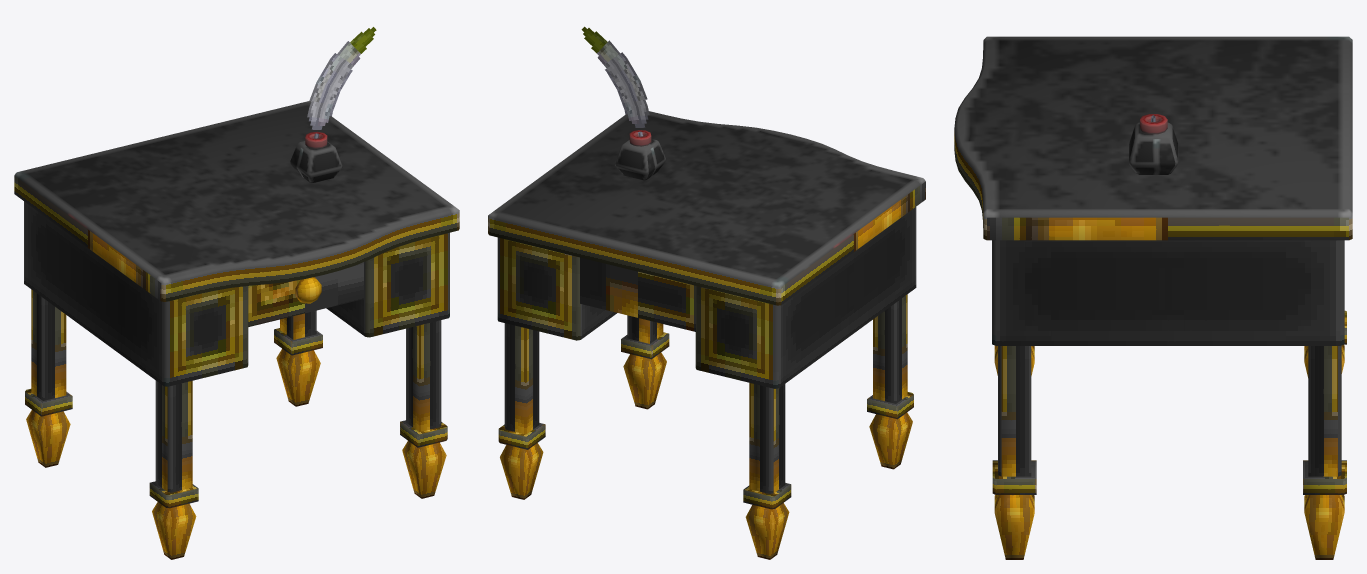
Rendered from int_gor_desk.dae.
The picture shows the model from 3 angles, left to right: view 1: azimuth 30°, elevation 25°; view 2: azimuth 150°, elevation 25°; view 3: azimuth 270°, elevation 25°; orthographic projection. The views are drawn at different scales.
Visible parts, largest first — view 1: vsn_mesh_2_, vsn_mesh_1_, vsn_mesh_3_, vsn_mesh_0_; view 2: vsn_mesh_2_, vsn_mesh_1_, vsn_mesh_3_, vsn_mesh_0_; view 3: vsn_mesh_1_, vsn_mesh_2_, vsn_mesh_0_.
Boxes of the visible parts, <box> form: vsn_mesh_2_: <box>14,176,459,559</box>; vsn_mesh_1_: <box>14,101,459,283</box>; vsn_mesh_3_: <box>307,27,376,138</box>; vsn_mesh_0_: <box>290,141,342,182</box>; vsn_mesh_2_: <box>488,181,925,559</box>; vsn_mesh_1_: <box>488,111,925,287</box>; vsn_mesh_3_: <box>581,26,649,136</box>; vsn_mesh_0_: <box>615,139,665,180</box>; vsn_mesh_1_: <box>954,36,1352,217</box>; vsn_mesh_2_: <box>954,129,1352,559</box>; vsn_mesh_0_: <box>1129,122,1178,174</box>.
Bounding box in the file's own units: 29.87 × 42.06 × 28.02.
Materials: 4 (4 with a texture image).
